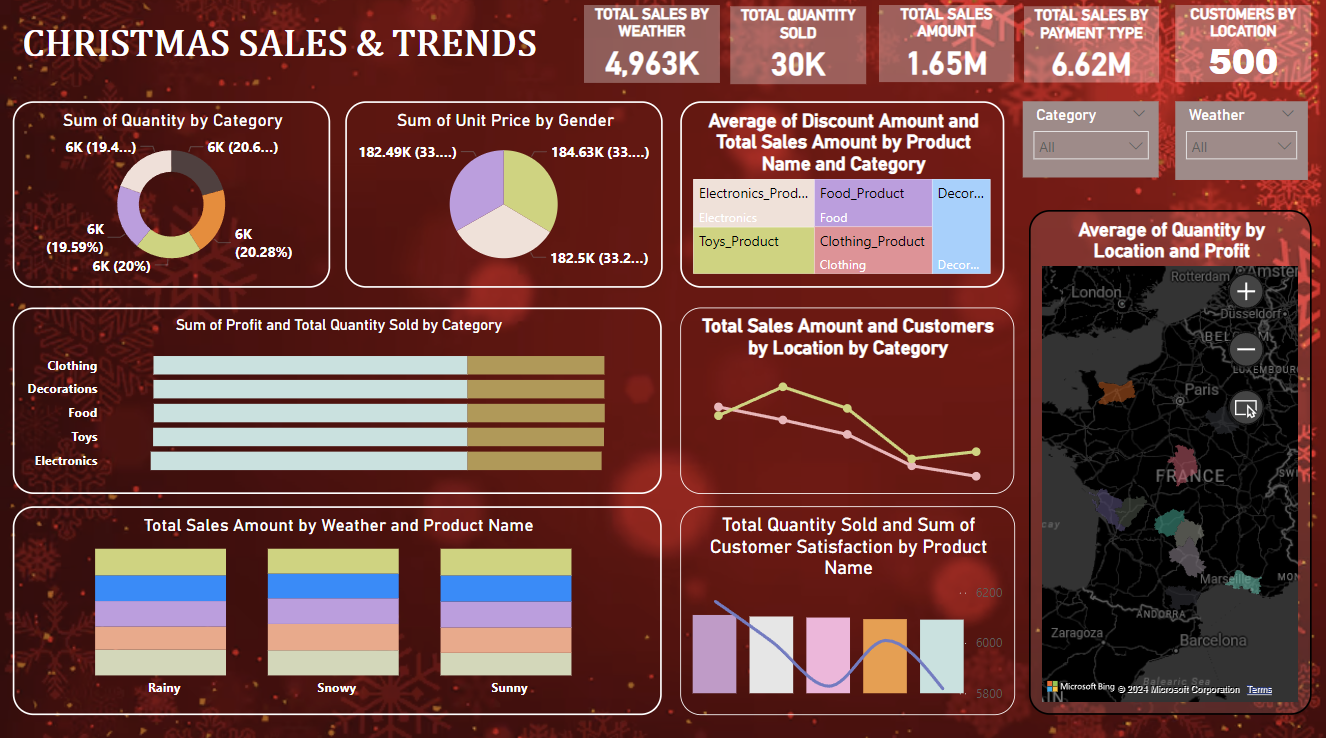

This screenshot's page, from the dashboard's own definition file:
{"tool":"powerbi","page":{"name":"Page 1","canvas":[1280,720],"ordinal":0},"visuals":[{"type":"card","title":"TOTAL QUANTITY SOLD","fields":{"Values":["Christmas Sales and Trend excel file.Total Quantity Sold"]},"box":[706.2,11.2,131.2,75],"z":0},{"type":"card","title":"TOTAL SALES BY WEATHER","fields":{"Values":["Christmas Sales and Trend excel file.Total Sales by Weather"]},"box":[565,10,131.2,75],"z":1000},{"type":"card","title":"TOTAL SALES BY PAYMENT TYPE","fields":{"Values":["Christmas Sales and Trend excel file.Total Sales by Payment Type"]},"box":[989.3,10.9,130.3,73.6],"z":2000},{"type":"card","title":"TOTAL SALES AMOUNT","fields":{"Values":["Christmas Sales and Trend excel file.Total Sales  Amount"]},"box":[849.3,9.7,130.3,74.8],"z":3000},{"type":"card","title":"CUSTOMERS BY LOCATION","fields":{"Values":["Christmas Sales and Trend excel file.Customers by Location"]},"box":[1135.3,9.7,131.5,74.8],"z":4000},{"type":"textbox","box":[0,21.2,541.2,70],"z":5000},{"type":"pieChart","fields":{"Category":["Christmas Sales and Trend excel file.Gender"],"Y":["Sum(Christmas Sales and Trend excel file.Unit Price)"]},"box":[333.8,102.5,306.2,180],"z":6000},{"type":"donutChart","fields":{"Category":["Christmas Sales and Trend excel file.Category"],"Y":["Sum(Christmas Sales and Trend excel file.Quantity)"]},"box":[13.8,102.5,306.2,180],"z":7000},{"type":"hundredPercentStackedBarChart","fields":{"Category":["Christmas Sales and Trend excel file.Category"],"Y":["Sum(Christmas Sales and Trend excel file.Profit)","Christmas Sales and Trend excel file.Total Quantity Sold"]},"box":[13.8,301.2,626.2,180],"z":8000},{"type":"slicer","fields":{"Values":["Christmas Sales and Trend excel file.Category"]},"box":[988.1,102.5,131.5,73.6],"z":9000},{"type":"slicer","fields":{"Values":["Christmas Sales and Trend excel file.Weather"]},"box":[1135.3,102.5,127.9,76],"z":10000},{"type":"filledMap","fields":{"Category":["Christmas Sales and Trend excel file.Location"],"Series":["Christmas Sales and Trend excel file.Profit"],"Y":["Avg(Christmas Sales and Trend excel file.Quantity)"]},"box":[994.1,207.5,272.7,487.4],"z":11000},{"type":"hundredPercentStackedColumnChart","fields":{"Category":["Christmas Sales and Trend excel file.Weather"],"Series":["Christmas Sales and Trend excel file.Product Name"],"Y":["Christmas Sales and Trend excel file.Total Sales  Amount"]},"box":[13.3,493.4,626.1,201.5],"z":12000},{"type":"treemap","fields":{"Details":["Christmas Sales and Trend excel file.Category"],"Group":["Christmas Sales and Trend excel file.Product Name"],"Values":["Avg(Christmas Sales and Trend excel file.DiscountAmount)"]},"box":[657.5,102.5,312.5,180],"z":13000},{"type":"lineChart","fields":{"Category":["Christmas Sales and Trend excel file.Category"],"Y2":["Christmas Sales and Trend excel file.Customers by Location"],"Y":["Christmas Sales and Trend excel file.Total Sales  Amount"]},"box":[657.5,301.2,322.5,180],"z":14000},{"type":"lineClusteredColumnComboChart","fields":{"Category":["Christmas Sales and Trend excel file.Product Name"],"Y2":["Sum(Christmas Sales and Trend excel file.Customer Satisfaction)"],"Y":["Christmas Sales and Trend excel file.Total Quantity Sold"]},"box":[657.5,493.4,323.3,201.5],"z":15000}]}

Visuals, with their boxes in screenshot pixels (x1, y1, x2, y2), scaled from the page's 1280x720 canvas onto the 1326x738 screenshot:
"TOTAL QUANTITY SOLD" card: BBox(732, 11, 867, 88)
"TOTAL SALES BY WEATHER" card: BBox(585, 10, 721, 87)
"TOTAL SALES BY PAYMENT TYPE" card: BBox(1025, 11, 1160, 87)
"TOTAL SALES AMOUNT" card: BBox(880, 10, 1015, 87)
"CUSTOMERS BY LOCATION" card: BBox(1176, 10, 1312, 87)
textbox: BBox(0, 22, 561, 93)
pieChart - Christmas Sales and Trend excel file.Gender x Sum(Christmas Sales and Trend excel file.Unit Price): BBox(346, 105, 663, 290)
donutChart - Christmas Sales and Trend excel file.Category x Sum(Christmas Sales and Trend excel file.Quantity): BBox(14, 105, 332, 290)
hundredPercentStackedBarChart - Christmas Sales and Trend excel file.Category x Sum(Christmas Sales and Trend excel file.Profit): BBox(14, 309, 663, 493)
slicer - Christmas Sales and Trend excel file.Category: BBox(1024, 105, 1160, 181)
slicer - Christmas Sales and Trend excel file.Weather: BBox(1176, 105, 1309, 183)
filledMap - Christmas Sales and Trend excel file.Location x Christmas Sales and Trend excel file.Profit: BBox(1030, 213, 1312, 712)
hundredPercentStackedColumnChart - Christmas Sales and Trend excel file.Weather x Christmas Sales and Trend excel file.Product Name: BBox(14, 506, 662, 712)
treemap - Christmas Sales and Trend excel file.Category x Christmas Sales and Trend excel file.Product Name: BBox(681, 105, 1005, 290)
lineChart - Christmas Sales and Trend excel file.Category x Christmas Sales and Trend excel file.Customers by Location: BBox(681, 309, 1015, 493)
lineClusteredColumnComboChart - Christmas Sales and Trend excel file.Product Name x Sum(Christmas Sales and Trend excel file.Customer Satisfaction): BBox(681, 506, 1016, 712)
